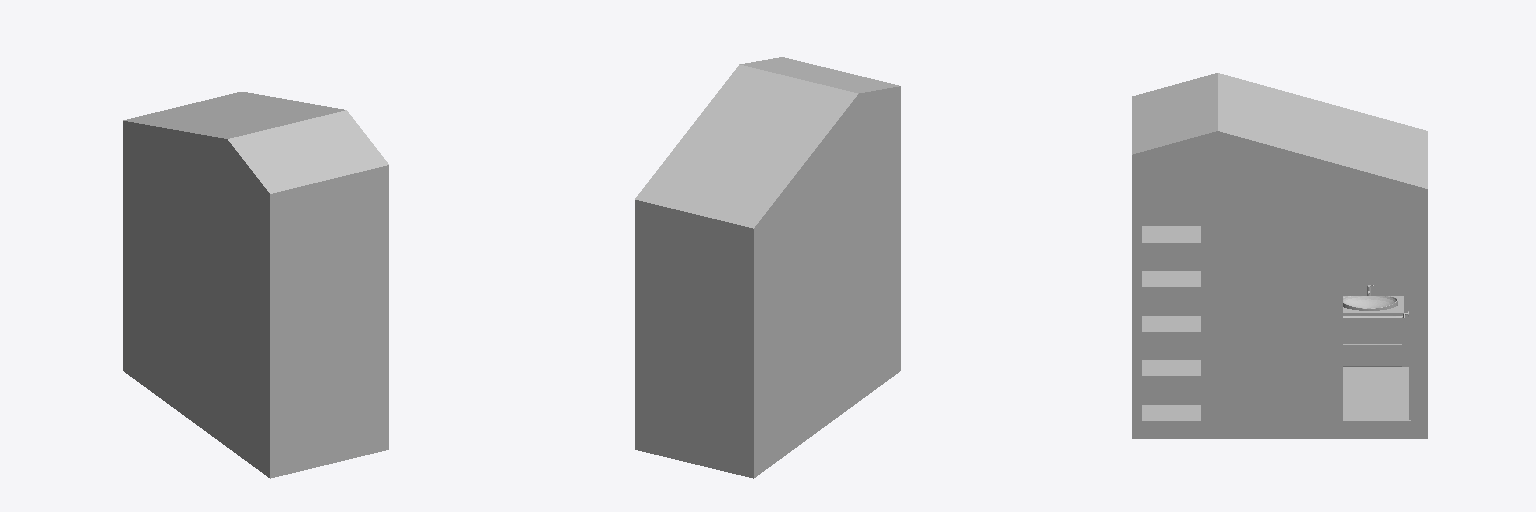
File: 3D_3.3_SIM.obj
The picture shows the model from 3 angles: view 1: azimuth 30°, elevation 25°; view 2: azimuth 150°, elevation 25°; view 3: azimuth 270°, elevation 25°; orthographic projection.
Visible parts, largest first — view 1: 3D_3.3_SIM; view 2: 3D_3.3_SIM; view 3: 3D_3.3_SIM.
Boxes of the visible parts, box(x1,y1,x2,y2) form: 3D_3.3_SIM: box(123, 92, 388, 478); 3D_3.3_SIM: box(635, 57, 900, 478); 3D_3.3_SIM: box(1132, 73, 1427, 438).
Size of the model in its own units: 1.4 by 3.46 by 3.